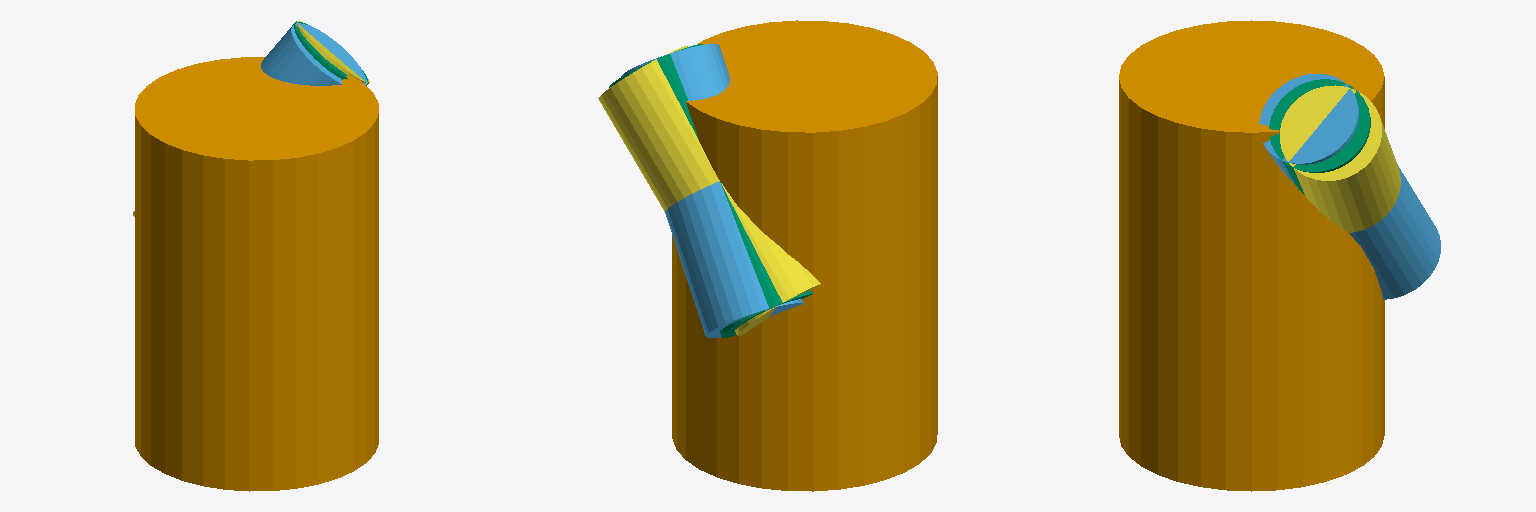
robot.urdf — pepe:
<?xml version="1.0"?><robot name="pepe">
	<link name="0">
		<visual>
			<geometry>
				<cylinder length="2.9780468539074367" radius="0.9999"/>
			</geometry>
		</visual>
		<collision>
			<geometry>
				<cylinder length="2.9780468539074367" radius="0.9999"/>
			</geometry>
		</collision>
		<inertial>
			<mass value="9.353939049816244"/>
			<inertia ixx="0.03" iyy="0.03" izz="0.03" ixy="0" ixz="0" iyx="0"/>
		</inertial>
	</link>
	<link name="11">
		<visual>
			<geometry>
				<cylinder length="2.075448211357434" radius="0.39063922605630597"/>
			</geometry>
		</visual>
		<collision>
			<geometry>
				<cylinder length="2.075448211357434" radius="0.39063922605630597"/>
			</geometry>
		</collision>
		<inertial>
			<mass value="0.9949779934326527"/>
			<inertia ixx="0.03" iyy="0.03" izz="0.03" ixy="0" ixz="0" iyx="0"/>
		</inertial>
	</link>
	<link name="12">
		<visual>
			<geometry>
				<cylinder length="2.075448211357434" radius="0.39063922605630597"/>
			</geometry>
		</visual>
		<collision>
			<geometry>
				<cylinder length="2.075448211357434" radius="0.39063922605630597"/>
			</geometry>
		</collision>
		<inertial>
			<mass value="0.9949779934326527"/>
			<inertia ixx="0.03" iyy="0.03" izz="0.03" ixy="0" ixz="0" iyx="0"/>
		</inertial>
	</link>
	<link name="13">
		<visual>
			<geometry>
				<cylinder length="2.075448211357434" radius="0.39063922605630597"/>
			</geometry>
		</visual>
		<collision>
			<geometry>
				<cylinder length="2.075448211357434" radius="0.39063922605630597"/>
			</geometry>
		</collision>
		<inertial>
			<mass value="0.9949779934326527"/>
			<inertia ixx="0.03" iyy="0.03" izz="0.03" ixy="0" ixz="0" iyx="0"/>
		</inertial>
	</link>
	<joint name="11_to_0" type="revolute">
		<parent link="0"/>
		<child link="11"/>
		<axis xyz="0 0 1"/>
		<limit effort="1" upper="-3.1415" lower="3.1415" velocity="1"/>
		<origin rpy="0.21634403812760747 3.767907355758158 5.407675104821908" xyz="0.3745329695448114 0.7413694365898381 0.750752698584907"/>
	</joint>
	<joint name="12_to_0" type="revolute">
		<parent link="0"/>
		<child link="12"/>
		<axis xyz="0 0 1"/>
		<limit effort="1" upper="-3.1415" lower="3.1415" velocity="1"/>
		<origin rpy="0.3245160571914112 3.767907355758158 5.407675104821908" xyz="0.3745329695448114 0.7413694365898381 0.750752698584907"/>
	</joint>
	<joint name="13_to_0" type="revolute">
		<parent link="0"/>
		<child link="13"/>
		<axis xyz="0 0 1"/>
		<limit effort="1" upper="-3.1415" lower="3.1415" velocity="1"/>
		<origin rpy="0.43268807625521494 3.767907355758158 5.407675104821908" xyz="0.3745329695448114 0.7413694365898381 0.750752698584907"/>
	</joint>
</robot>

--- Facts derived from the render (not from the file) ---
Views: 3 orthographic renders of the robot side by side, from view 1: azimuth 30°, elevation 25°; view 2: azimuth 150°, elevation 25°; view 3: azimuth 270°, elevation 25°.
Robot: pepe — 4 links, 3 joints (3 revolute); root link 0; default pose: all joints at 0.
Visible links, largest first — view 1: 0, 11, 13, 12; view 2: 0, 13, 11, 12; view 3: 0, 11, 13, 12.
Link boxes in pixels (x1=…): 0: x1=135, y1=57, x2=378, y2=491; 11: x1=261, y1=23, x2=366, y2=85; 13: x1=133, y1=21, x2=369, y2=216; 12: x1=293, y1=22, x2=368, y2=85; 0: x1=672, y1=20, x2=937, y2=491; 13: x1=598, y1=46, x2=820, y2=335; 11: x1=621, y1=44, x2=803, y2=337; 12: x1=609, y1=44, x2=812, y2=337; 0: x1=1119, y1=20, x2=1384, y2=491; 11: x1=1259, y1=74, x2=1440, y2=299; 13: x1=1280, y1=85, x2=1400, y2=232; 12: x1=1269, y1=79, x2=1370, y2=194.
Size in the robot's own frame: 2.35 by 2.43 by 3.3 metres.
Geometry: primitives only (box / cylinder / sphere), no mesh files.
